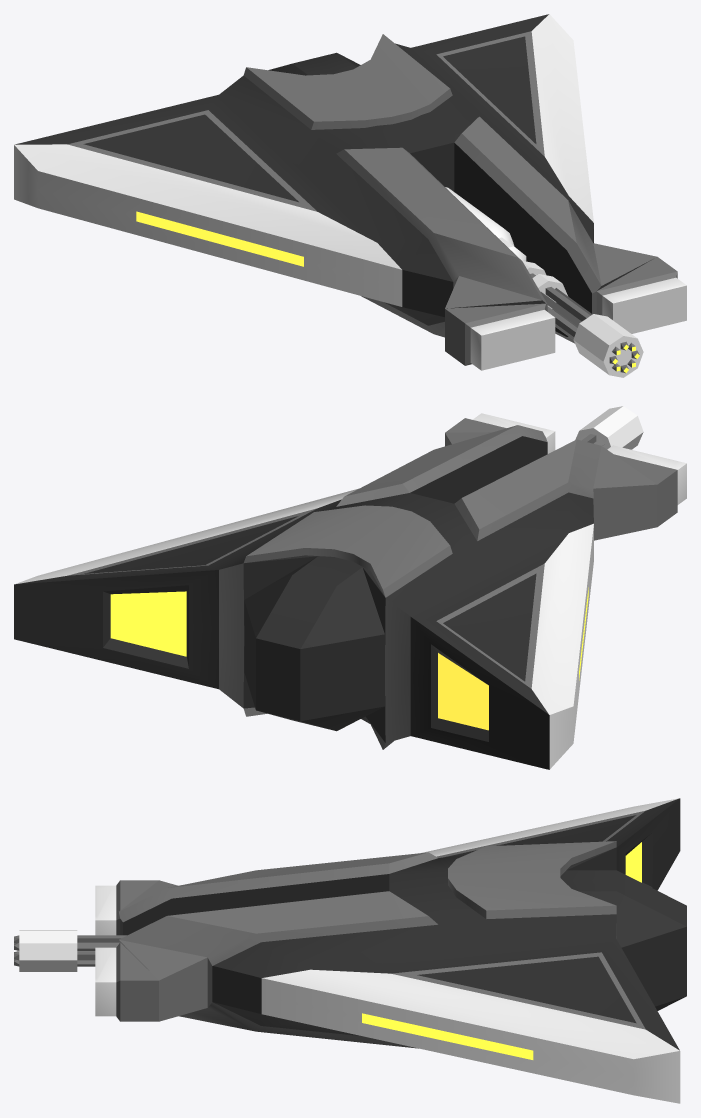
The model's file is 666_ship_light_tolly_IED.glb.
3 renders of one model, top to bottom at view 1: azimuth 30°, elevation 25°; view 2: azimuth 150°, elevation 25°; view 3: azimuth 270°, elevation 25°, orthographic. The views are drawn at different scales.
Parts seen in each view (by area): view 1: 66_ship_light_tolly_(IED).001; view 2: 66_ship_light_tolly_(IED).001; view 3: 66_ship_light_tolly_(IED).001.
Boxes of the visible parts, x1,y1,x2,y2 form: 66_ship_light_tolly_(IED).001: [14, 14, 686, 377]; 66_ship_light_tolly_(IED).001: [14, 406, 686, 769]; 66_ship_light_tolly_(IED).001: [14, 798, 686, 1103].
Size of the model in its own units: 1.05 by 0.3015 by 1.18.
